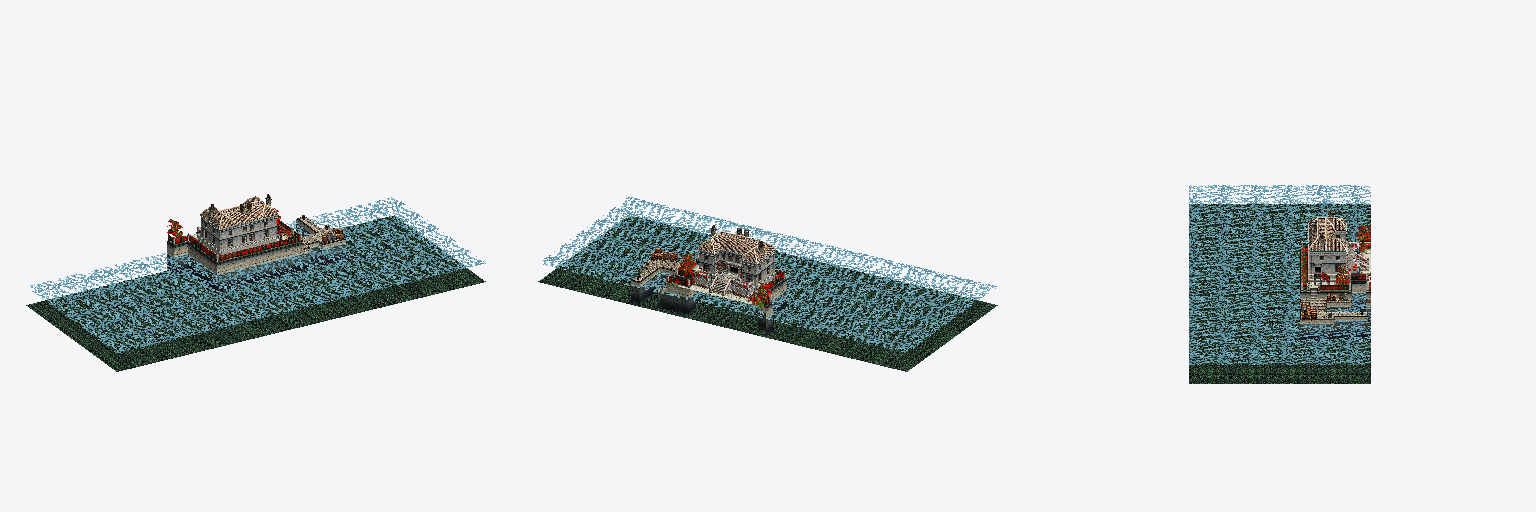
The picture shows the model from 3 angles: view 1: azimuth 30°, elevation 25°; view 2: azimuth 150°, elevation 25°; view 3: azimuth 270°, elevation 25°; orthographic projection.
Visible parts, largest first — view 1: Object.017; view 2: Object.017; view 3: Object.017.
Boxes of the visible parts, x1=… form: Object.017: x1=26, y1=194, x2=485, y2=371; Object.017: x1=538, y1=197, x2=997, y2=371; Object.017: x1=1189, y1=185, x2=1370, y2=383.
Bounding box in the file's own units: 104 × 20.25 × 44.53.
23 materials, 23 textured.